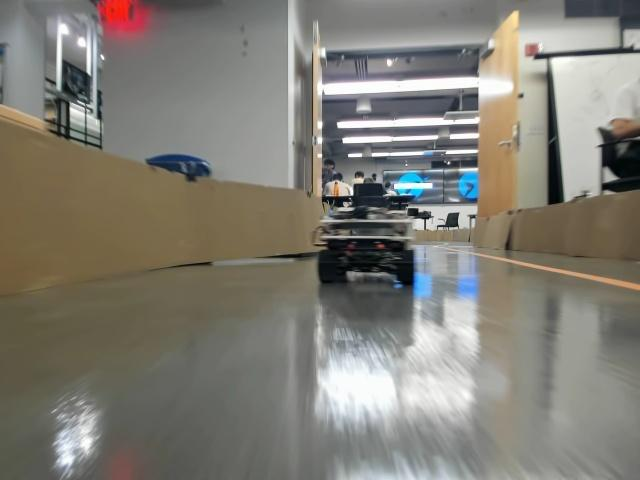Car: (315, 194, 415, 285)
